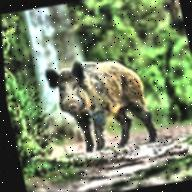boar: (39, 31, 186, 157)
